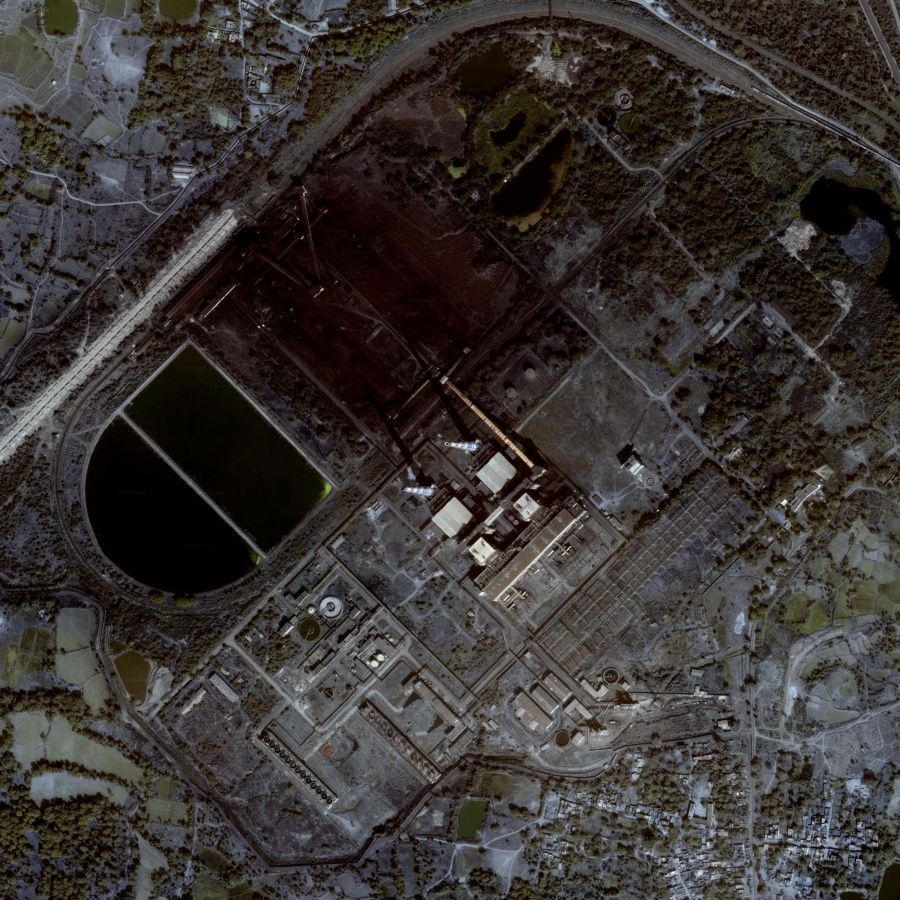PowerPlant: (68, 113, 579, 625)
